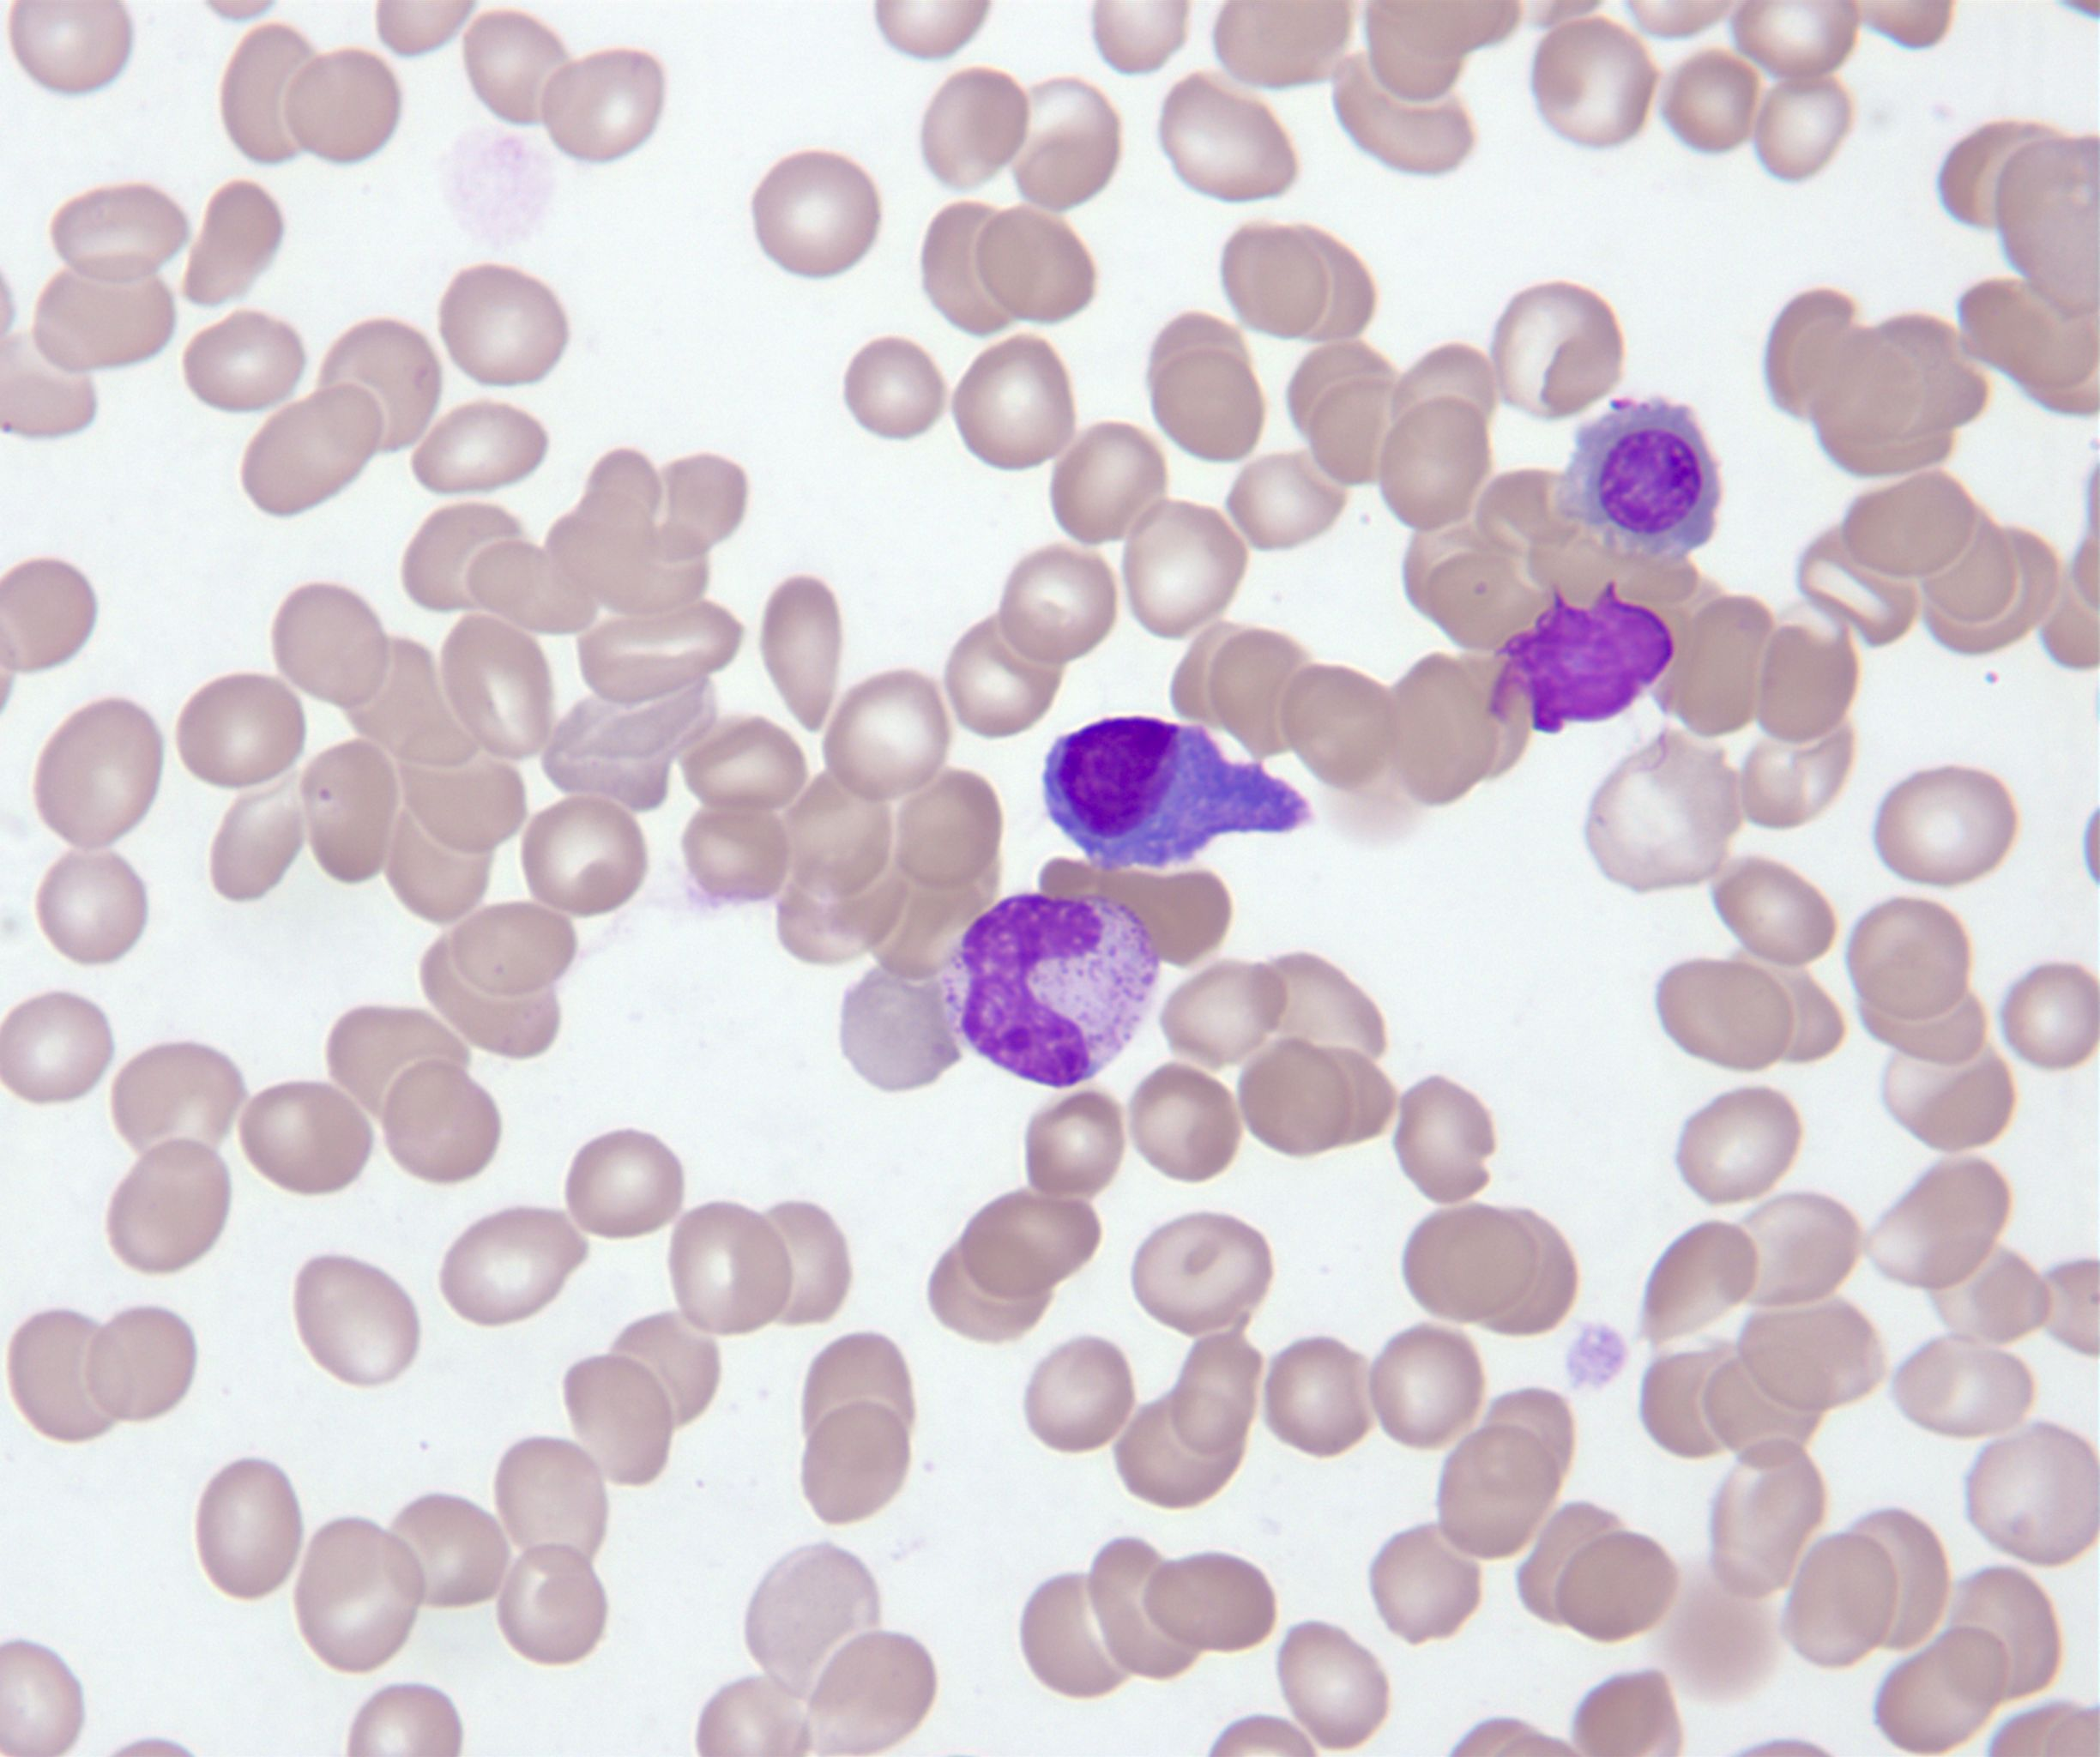24: (1558, 401, 1720, 562)
4: (942, 893, 1156, 1087)
52: (1043, 717, 1312, 874)
x: (1488, 585, 1673, 733)
